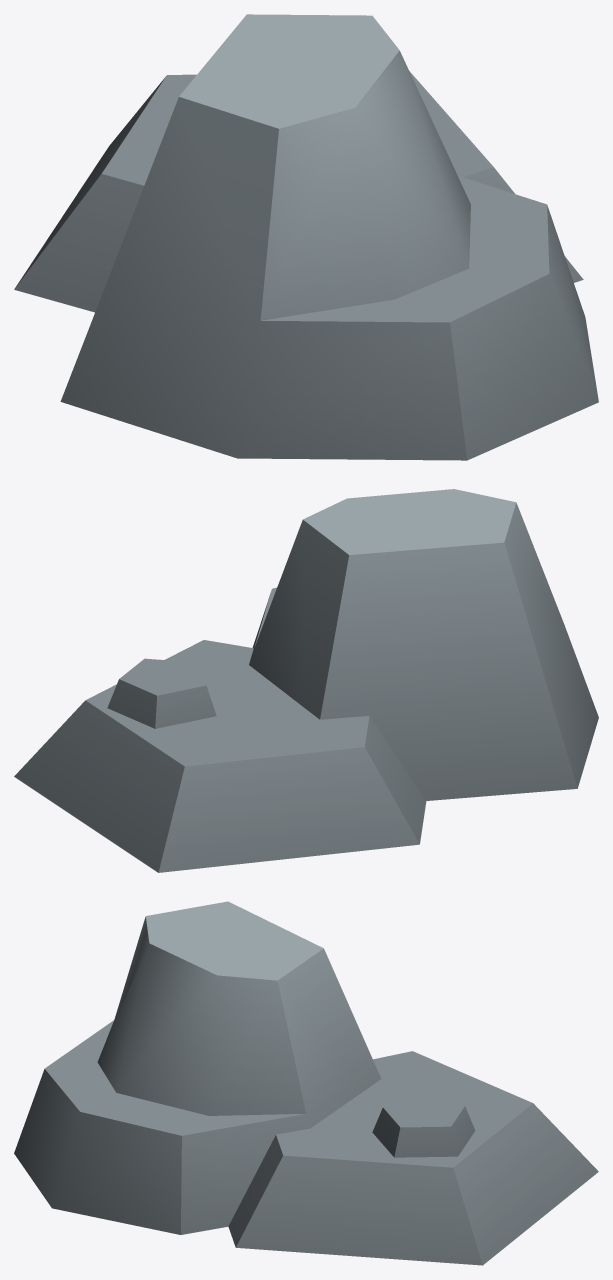
The model's file is rock_b.glb.
The picture shows the model from 3 angles, top to bottom: view 1: azimuth 30°, elevation 25°; view 2: azimuth 150°, elevation 25°; view 3: azimuth 270°, elevation 25°; orthographic projection. The views are drawn at different scales.
Visible parts, largest first — view 1: rock_b; view 2: rock_b; view 3: rock_b.
Boxes of the visible parts, <box> form: rock_b: <box>14,14,598,460</box>; rock_b: <box>14,489,598,872</box>; rock_b: <box>14,901,598,1265</box>.
Bounding box in the file's own units: 3.23 × 1.56 × 4.05.
1 material, 1 textured.
